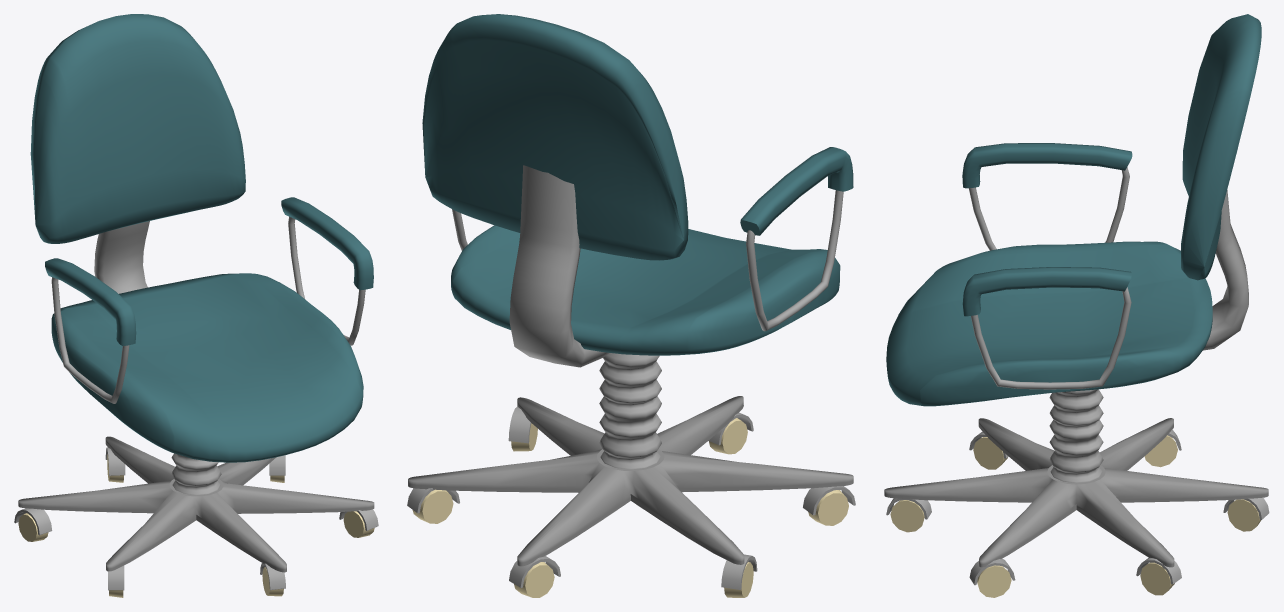
Rendered from Chair3.FBX.
3 views of the same model, side by side, from view 1: azimuth 30°, elevation 25°; view 2: azimuth 150°, elevation 25°; view 3: azimuth 270°, elevation 25° (orthographic). The views are drawn at different scales.
Visible parts, largest first — view 1: jhkfgs; view 2: jhkfgs; view 3: jhkfgs.
Part boxes in pixels (bbox=[...]): jhkfgs: bbox=[14, 14, 378, 597]; jhkfgs: bbox=[407, 14, 855, 597]; jhkfgs: bbox=[884, 14, 1269, 597].
Size of the model in its own units: 124 by 203 by 142.
